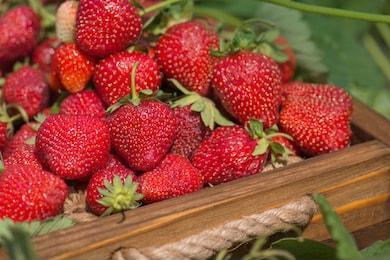Fresa: (203, 44, 284, 131), (99, 94, 184, 176), (276, 77, 355, 163), (150, 15, 226, 99), (33, 107, 111, 184), (185, 121, 270, 189), (80, 149, 151, 220), (71, 1, 147, 62)
